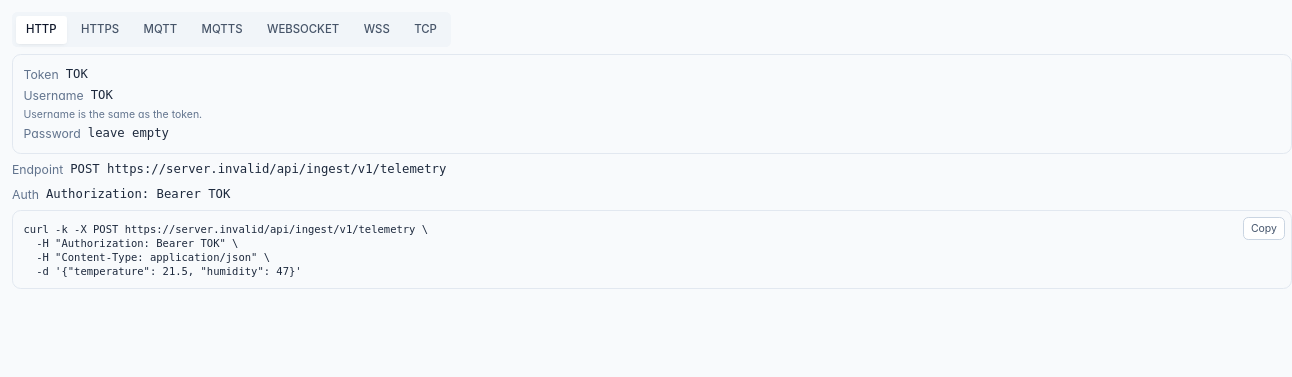
Scenario: ConnectionInstructions — protocol switcher › selecting MQTT shows the MQTT topic, and no warning now that it is live
This screenshot has width=1292, height=377.
Click the tab "MQTT".
click(160, 30)  # box [133,16,188,44]
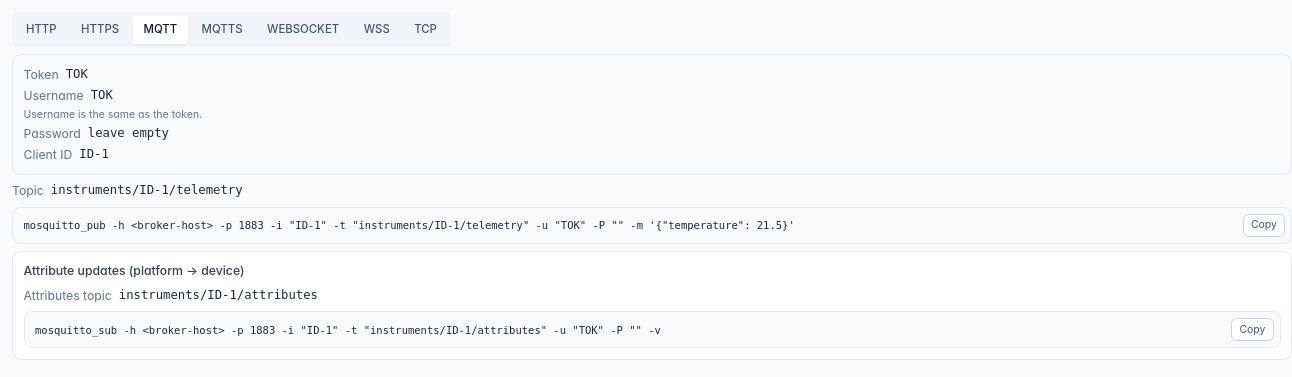
Expected: the text "instruments/ID-1/telemetry" is shown, [51,182,243,200]
